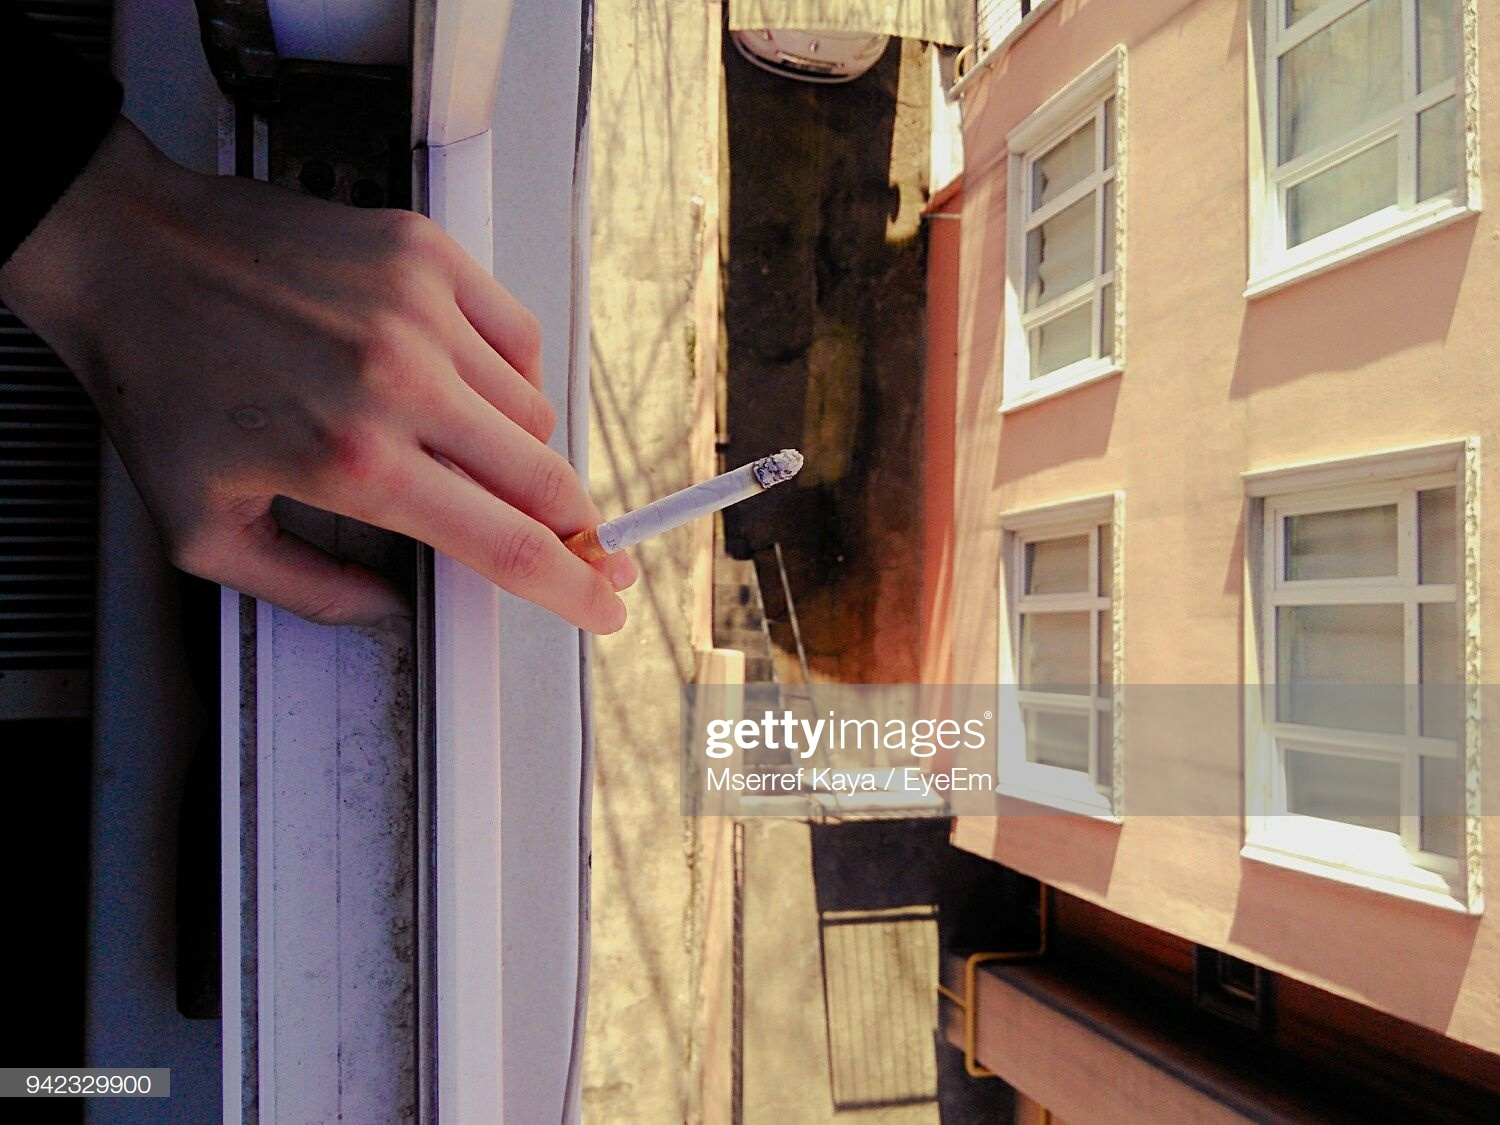sigaretta: (533, 451, 811, 575)
